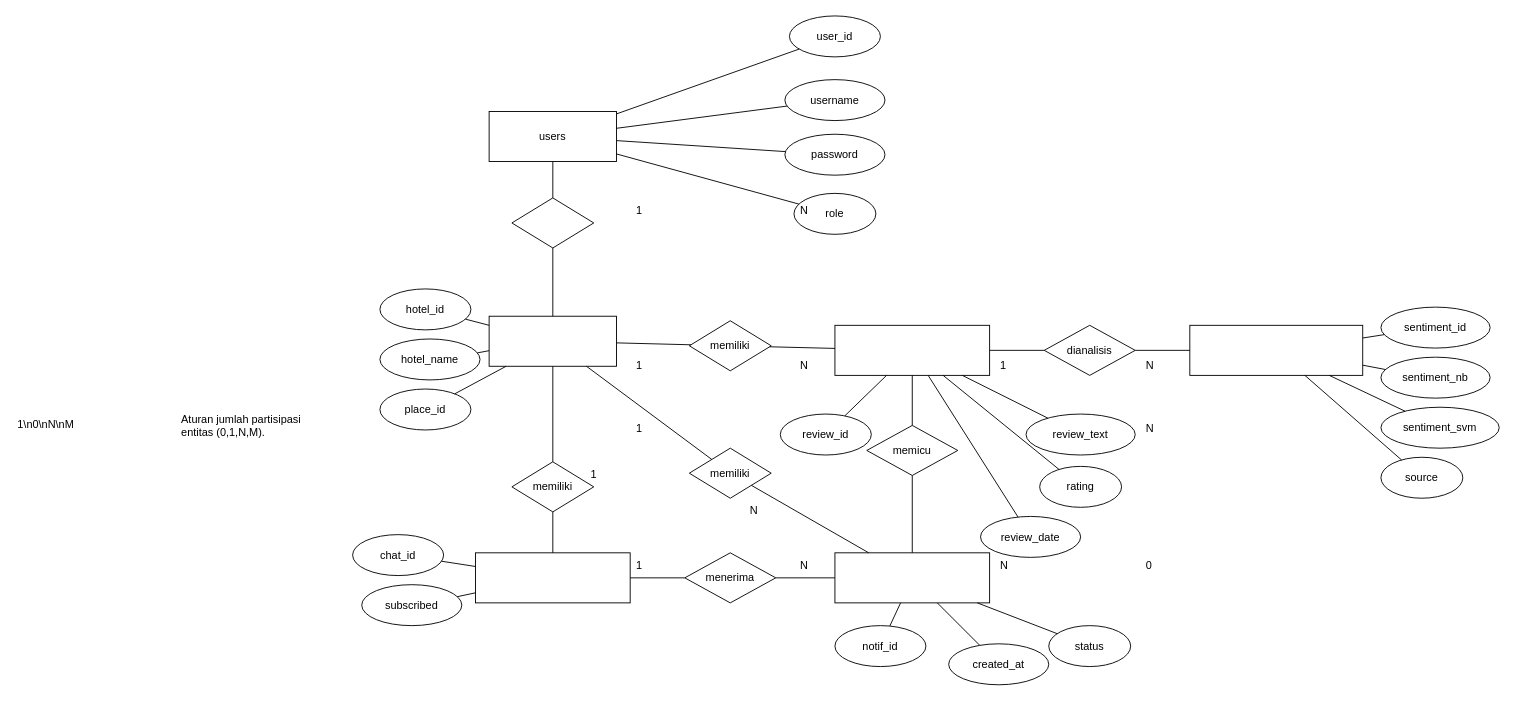
Some shapes in this 1515 by 701 pixel diagram are drawn without their labels. The shapes that lost their labels are listed below. From the top down, each one's centre as x and y in pixels, then its label:
At (552,222): "mengelola".
At (552,340): "hotels".
At (912,349): "hotel_reviews".
At (1276,349): "sentiment_reviews".
At (552,577): "telegram_users".
At (912,577): "notifications".
